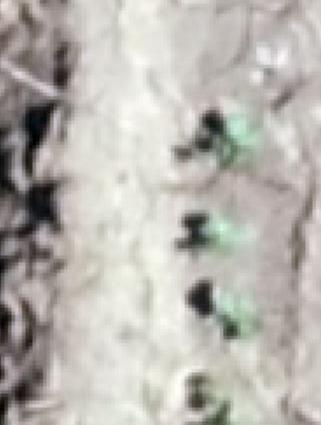cotton: (203, 217, 236, 246), (226, 119, 256, 145), (225, 310, 254, 333), (211, 288, 232, 312)
